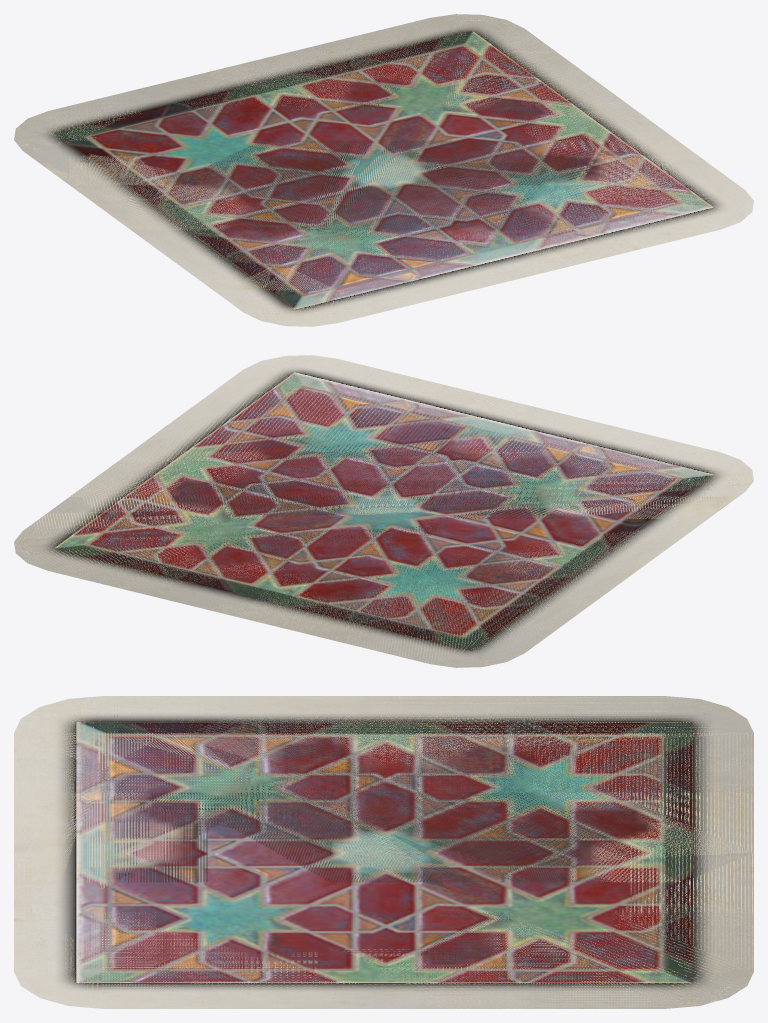
File: card39.fbx
3 views of the same model, one above another, from view 1: azimuth 30°, elevation 25°; view 2: azimuth 150°, elevation 25°; view 3: azimuth 270°, elevation 25° (orthographic). The views are drawn at different scales.
Visible parts, largest first — view 1: polySurface1; view 2: polySurface1; view 3: polySurface1.
Boxes of the visible parts, x1,y1,x2,y2 form: polySurface1: [14, 14, 753, 326]; polySurface1: [14, 355, 753, 667]; polySurface1: [14, 696, 753, 1008].
Size of the model in its own units: 1 by 0 by 1.
